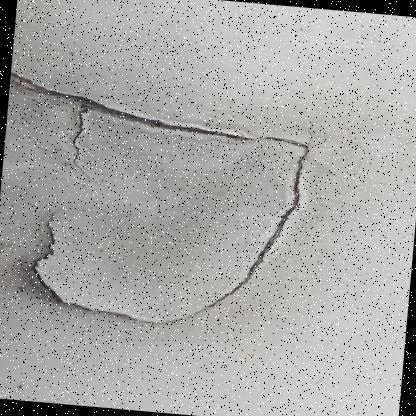Crack: (0, 48, 343, 390)
